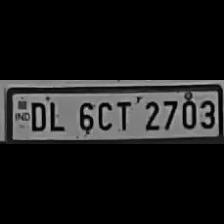0: (178, 96, 196, 130)
2: (138, 96, 162, 132)
3: (196, 96, 216, 130)
6: (72, 99, 96, 133)
7: (159, 97, 177, 131)
C: (94, 98, 114, 132)
D: (26, 98, 46, 132)
L: (46, 97, 68, 132)
T: (114, 98, 134, 132)
